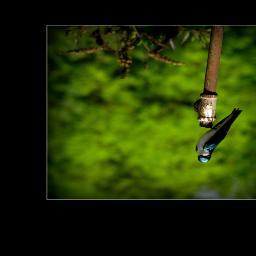Swallow: (195, 106, 243, 164)
